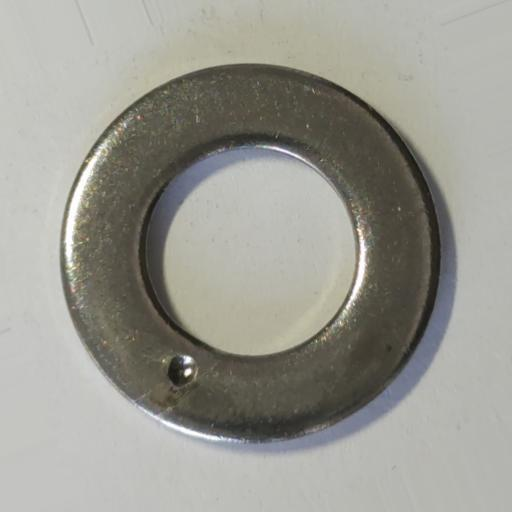circular_cavity: (165, 353, 200, 388)
